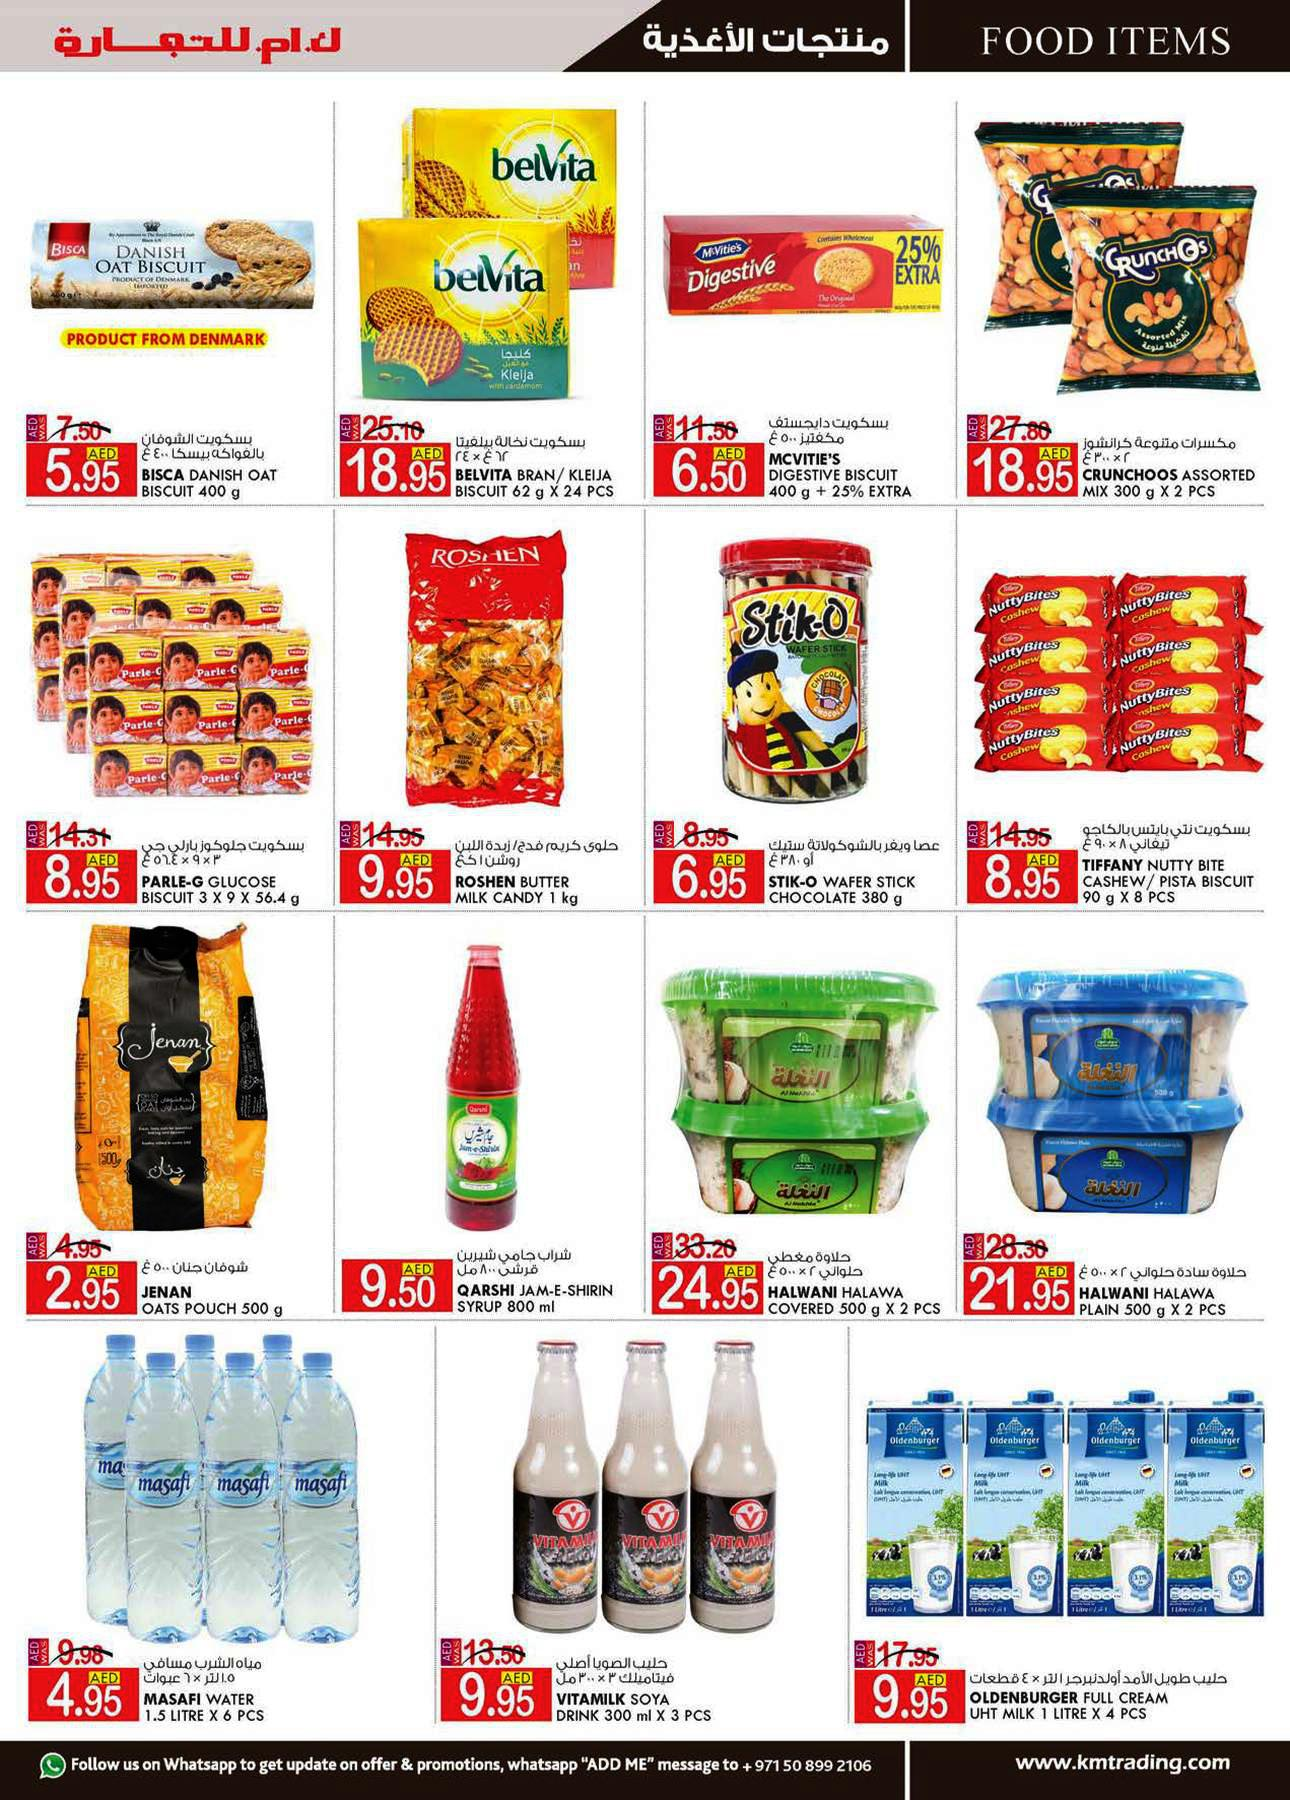text: (966, 1658, 1241, 1734), (1076, 809, 1268, 904), (452, 407, 631, 507), (764, 1232, 955, 1319), (764, 402, 926, 502), (1078, 419, 1269, 502), (551, 1647, 748, 1727), (451, 1232, 630, 1320), (765, 825, 949, 907), (451, 826, 635, 907), (135, 830, 320, 910), (137, 419, 303, 507), (137, 1247, 322, 1321), (1076, 1252, 1262, 1320), (138, 1652, 272, 1727)
